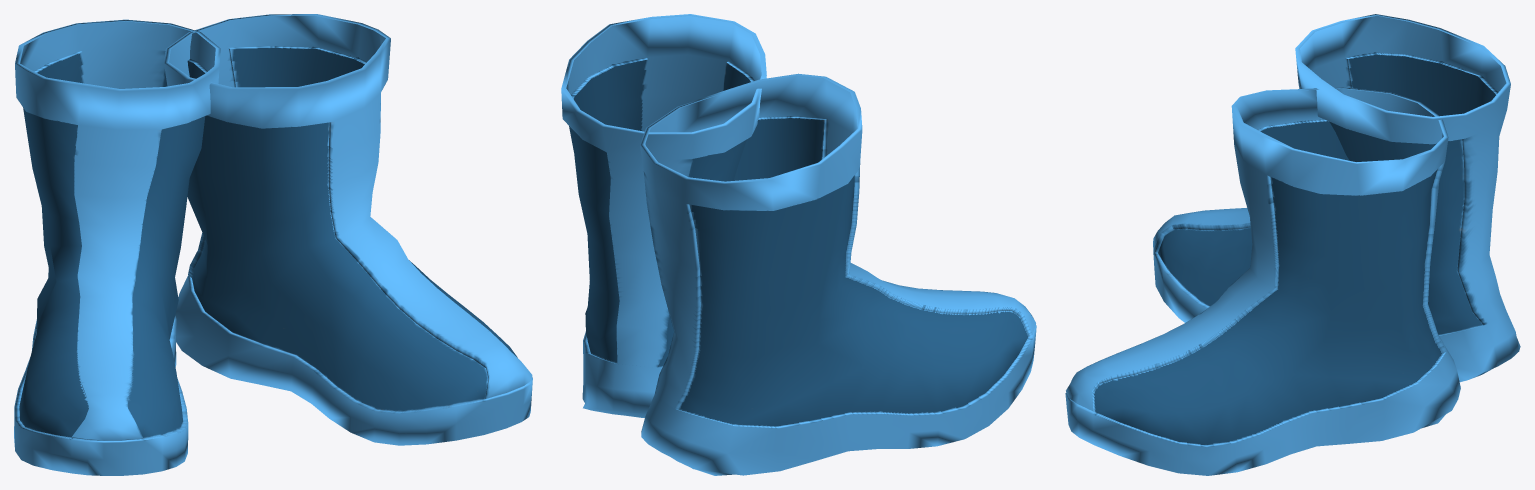
File: BootsObject.fbx
3 renders of one model, left to right at view 1: azimuth 30°, elevation 25°; view 2: azimuth 150°, elevation 25°; view 3: azimuth 270°, elevation 25°, orthographic. The views are drawn at different scales.
Parts seen in each view (by area): view 1: polySurface1, polySurface2; view 2: polySurface2, polySurface1; view 3: polySurface1, polySurface2.
Part boxes in pixels (box(x1,y1,x2,y2)): polySurface1: box(164, 14, 532, 445); polySurface2: box(14, 19, 220, 475); polySurface2: box(640, 73, 1036, 475); polySurface1: box(561, 14, 766, 417); polySurface1: box(1065, 87, 1460, 475); polySurface2: box(1153, 14, 1520, 382).
Bounding box in the file's own units: 0.2673 × 0.1947 × 0.2612.
Materials: 1 (1 with a texture image).
